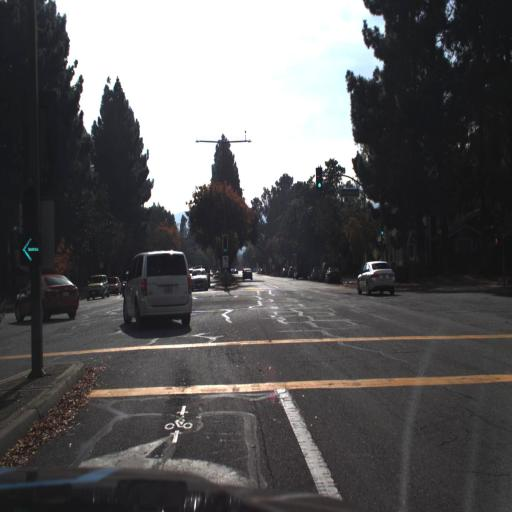car: (119, 246, 195, 329), (13, 268, 81, 321), (11, 273, 78, 324), (353, 254, 398, 296), (188, 265, 212, 294), (239, 261, 255, 283)
trafficLight-Green: (314, 165, 325, 190), (317, 171, 323, 191), (380, 221, 386, 238)
trafficLight-GreenLeft: (20, 185, 39, 269), (223, 234, 229, 256)
